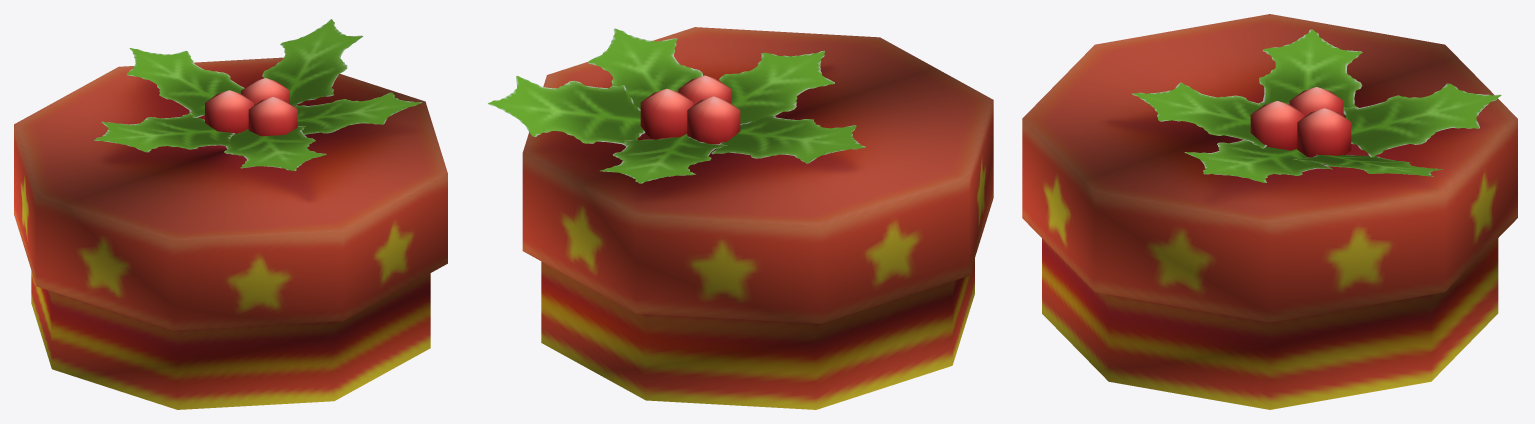
The model's file is testbox.obj.
3 views of the same model, side by side, from view 1: azimuth 30°, elevation 25°; view 2: azimuth 150°, elevation 25°; view 3: azimuth 270°, elevation 25° (orthographic). The views are drawn at different scales.
Parts seen in each view (by area): view 1: item_xmas_002_geom; view 2: item_xmas_002_geom; view 3: item_xmas_002_geom.
Part boxes in pixels (left/top/right/bottom): item_xmas_002_geom: left=14, top=19, right=447, bottom=409; item_xmas_002_geom: left=488, top=27, right=993, bottom=409; item_xmas_002_geom: left=1022, top=14, right=1517, bottom=409.
Size of the model in its own units: 65.88 by 34.92 by 64.75.
1 material, 1 textured.
